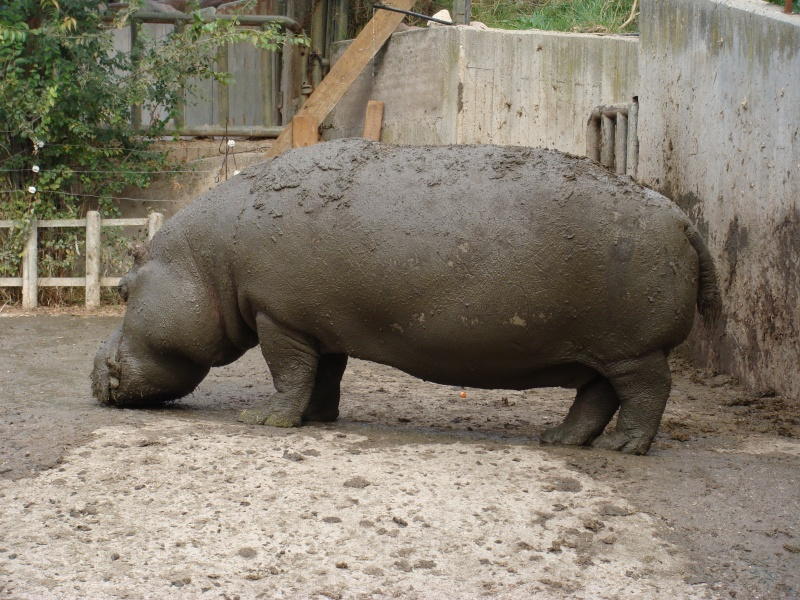hipopotamo: (87, 132, 731, 473)
